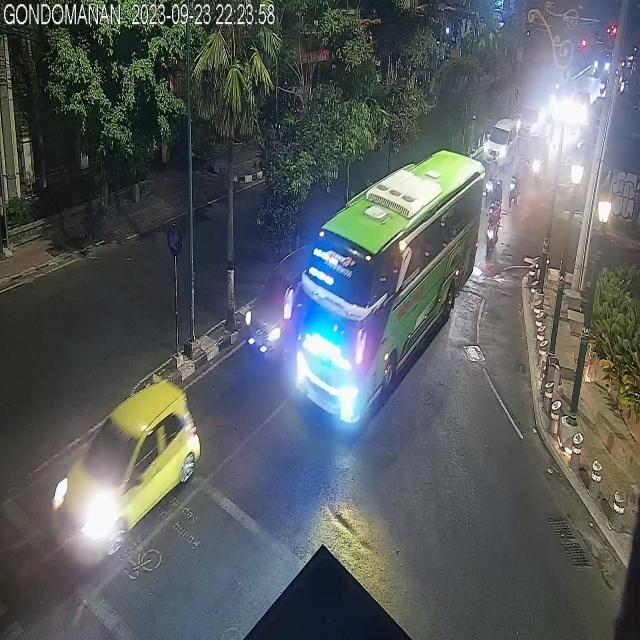bus: (294, 151, 484, 428)
car: (49, 378, 201, 553), (245, 251, 321, 365), (486, 119, 518, 168), (518, 105, 545, 143)
motorcycle: (487, 198, 501, 255), (509, 155, 524, 207)
